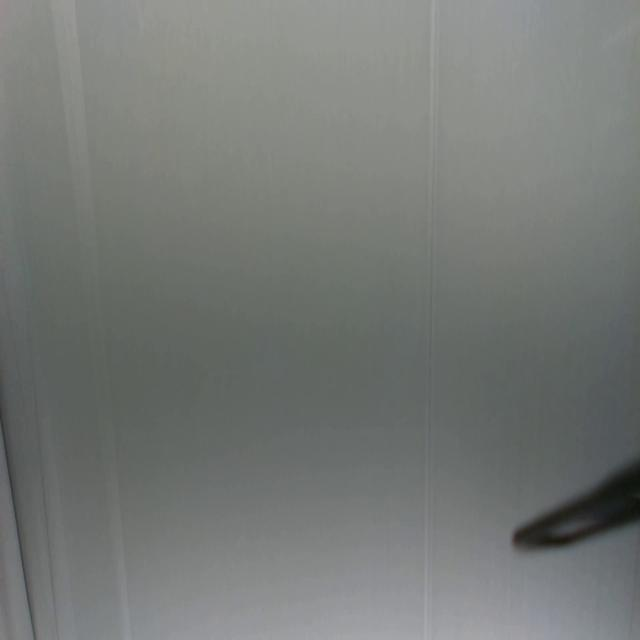crease: (51, 0, 135, 635), (422, 0, 441, 636), (0, 406, 36, 638)
